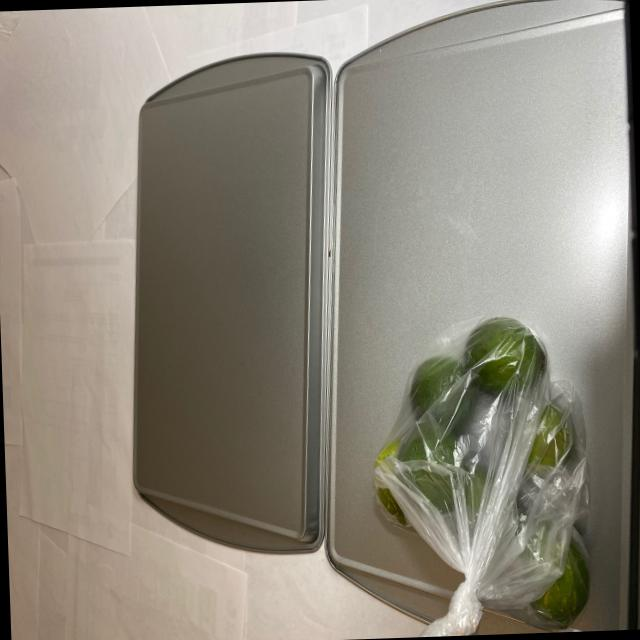lemon: (366, 315, 602, 628)
